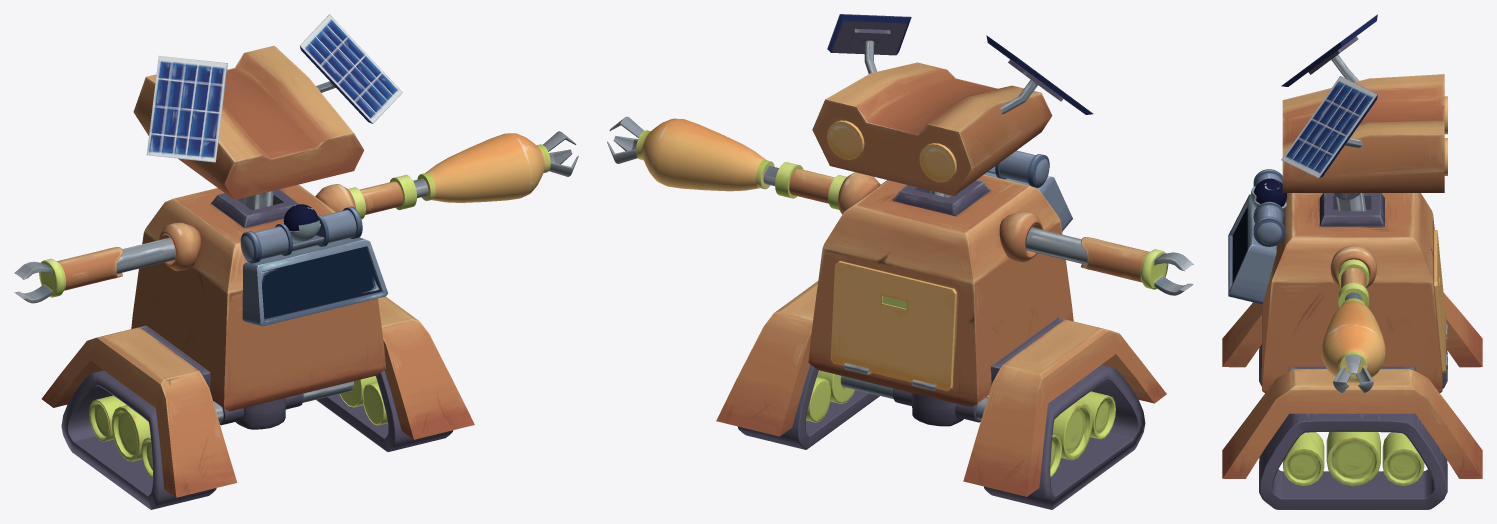
File: robot_v4.fbx
The picture shows the model from 3 angles, left to right: view 1: azimuth 30°, elevation 25°; view 2: azimuth 150°, elevation 25°; view 3: azimuth 270°, elevation 25°; orthographic projection. The views are drawn at different scales.
Parts seen in each view (by area): view 1: body, tracks, battery, strech_arm, bot_station, helper_bot; view 2: body, tracks, strech_arm, bot_station, battery; view 3: body, tracks, strech_arm, battery, bot_station, helper_bot.
Boxes of the visible parts, x1=… form: body: x1=14, y1=14, x2=474, y2=497; tracks: x1=61, y1=370, x2=453, y2=509; battery: x1=242, y1=237, x2=388, y2=326; strech_arm: x1=413, y1=131, x2=578, y2=202; bot_station: x1=240, y1=206, x2=362, y2=263; helper_bot: x1=283, y1=204, x2=320, y2=241; body: x1=716, y1=14, x2=1193, y2=496; tracks: x1=737, y1=364, x2=1145, y2=509; strech_arm: x1=607, y1=117, x2=778, y2=191; bot_station: x1=987, y1=150, x2=1049, y2=187; battery: x1=984, y1=172, x2=1072, y2=231; body: x1=1222, y1=14, x2=1482, y2=486; tracks: x1=1259, y1=344, x2=1447, y2=509; strech_arm: x1=1321, y1=292, x2=1385, y2=392; battery: x1=1228, y1=194, x2=1276, y2=304; bot_station: x1=1253, y1=169, x2=1284, y2=246; helper_bot: x1=1250, y1=178, x2=1286, y2=209.
Bounding box in the file's own units: 221 × 152 × 92.79.
6 materials, 6 textured.
